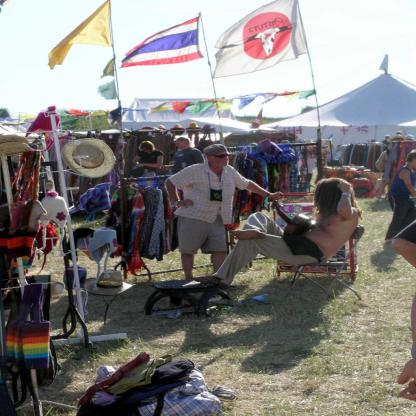face: (211, 153, 231, 167), (176, 142, 183, 150), (143, 148, 151, 154)
